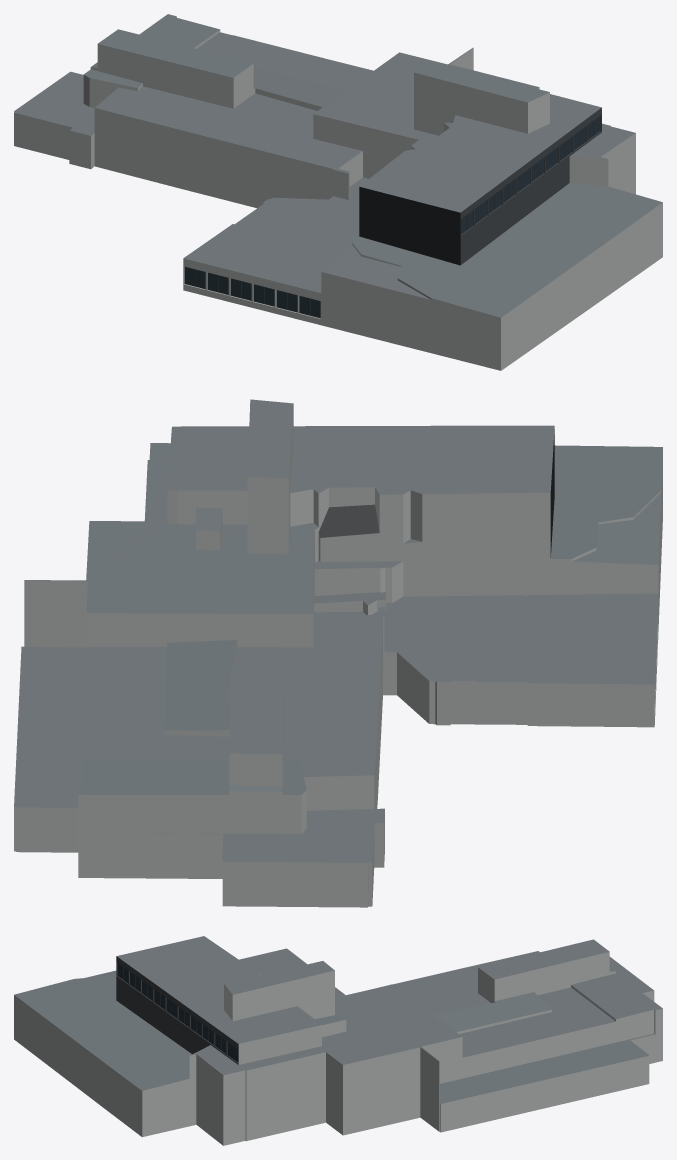
The model's file is recipe-large-politie-flierbosdreef.glb.
3 views of the same model, one above another, from view 1: azimuth 30°, elevation 25°; view 2: azimuth 150°, elevation 25°; view 3: azimuth 270°, elevation 25° (orthographic). The views are drawn at different scales.
Parts seen in each view (by area): view 1: politie-flierbosdreef; view 2: politie-flierbosdreef; view 3: politie-flierbosdreef.
Part boxes in pixels (left/top/right/bottom): politie-flierbosdreef: left=14, top=14, right=662, bottom=370; politie-flierbosdreef: left=14, top=399, right=662, bottom=907; politie-flierbosdreef: left=14, top=936, right=662, bottom=1145.
Bounding box in the file's own units: 64.07 × 20.75 × 103.
